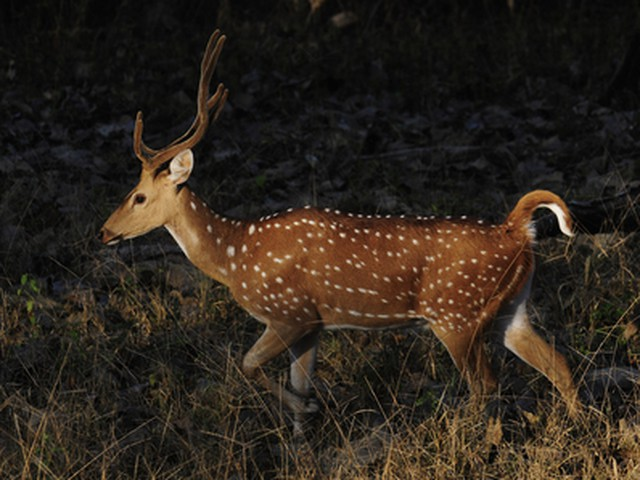deer: (95, 26, 592, 427)
